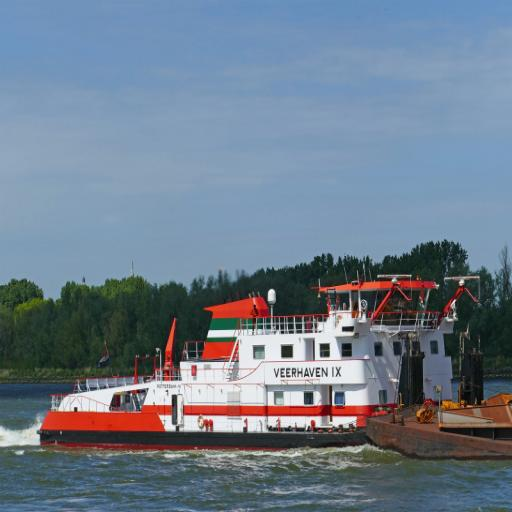tugboat: (36, 255, 490, 462)
